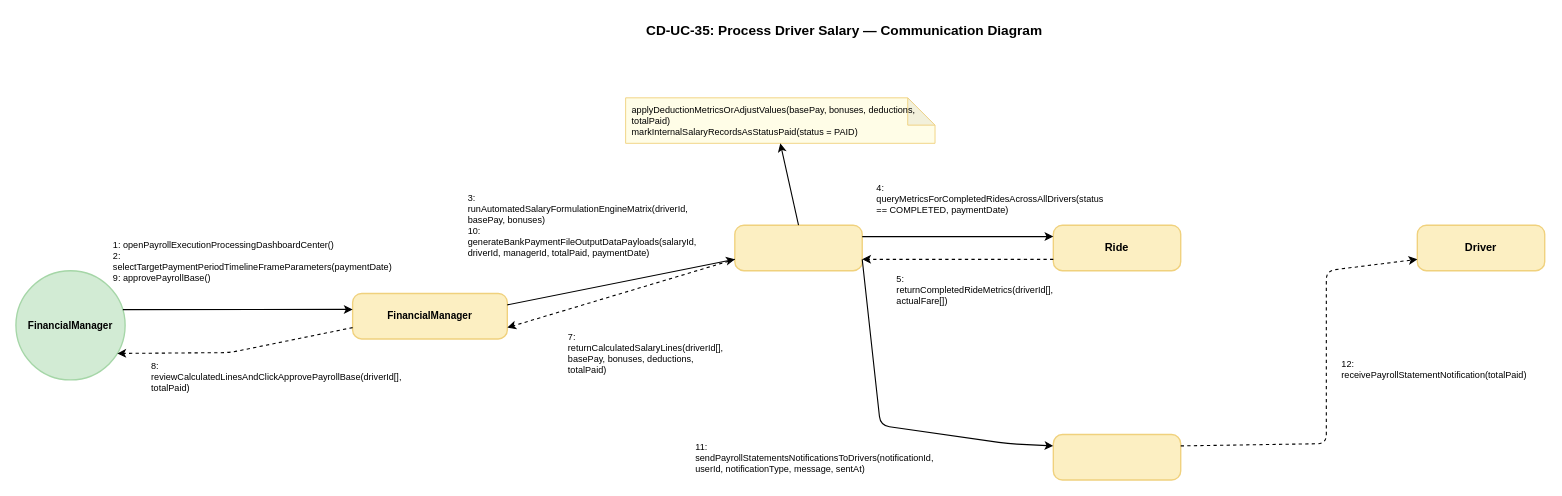
Image size: 1562x496. Some labels were removed from this diagram. Each missing label, with the centre of its shape:
DriverSalary: pixel 798 247
Notification: pixel 1116 456
